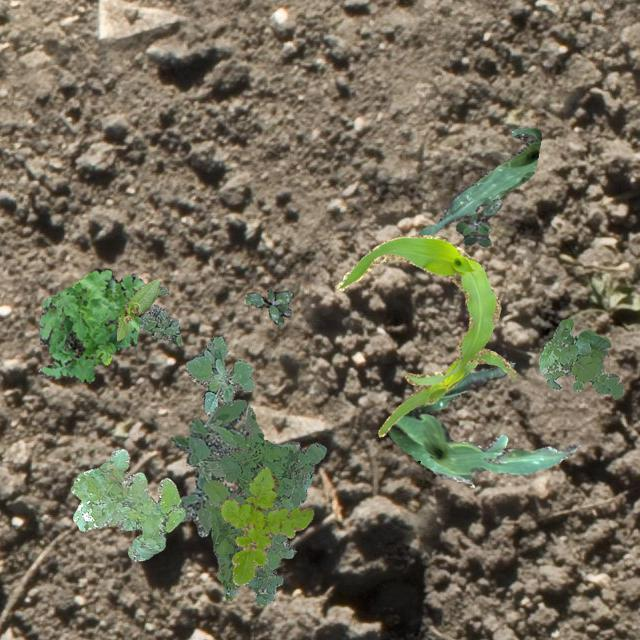crop: (336, 234, 516, 436), (386, 360, 580, 486), (418, 126, 540, 235), (116, 278, 160, 339)
weed: (202, 404, 326, 604), (172, 398, 300, 536), (70, 448, 184, 560), (38, 268, 144, 382), (220, 466, 312, 584), (538, 318, 622, 398), (184, 334, 254, 414), (136, 286, 180, 344), (454, 198, 500, 246), (244, 286, 292, 324)
